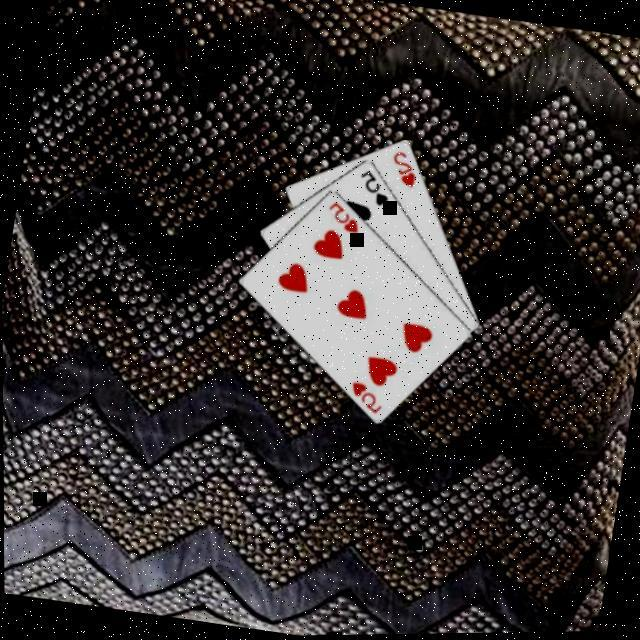2H: (384, 149, 419, 193)
5H: (342, 378, 386, 420), (320, 198, 363, 240)
5S: (351, 168, 393, 211)
